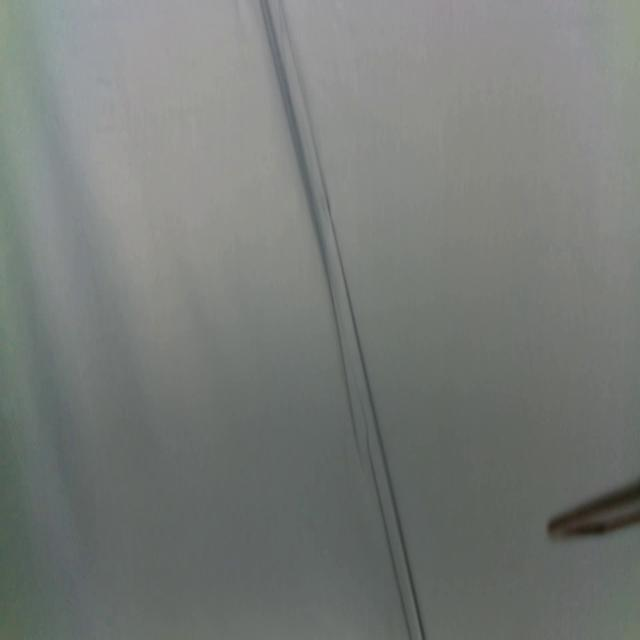crease: (261, 0, 425, 640)
